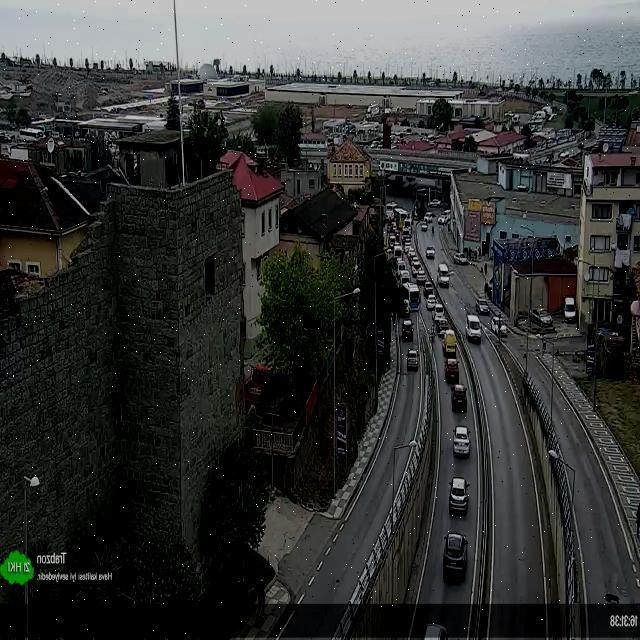Bus: (402, 282, 420, 310)
Car: (442, 530, 469, 581), (448, 476, 470, 514), (452, 426, 471, 456), (451, 384, 468, 412), (422, 622, 448, 640), (531, 308, 553, 327), (490, 315, 508, 337), (444, 358, 460, 382), (406, 348, 420, 371), (474, 298, 490, 316), (401, 320, 414, 342), (453, 252, 468, 265), (426, 294, 437, 309), (402, 298, 411, 316), (416, 270, 426, 286), (399, 269, 410, 283), (434, 302, 444, 316), (424, 280, 434, 294), (411, 257, 421, 271), (396, 258, 405, 273), (403, 239, 412, 253), (426, 246, 436, 258), (402, 231, 411, 244), (411, 266, 420, 279), (408, 248, 416, 262), (438, 214, 448, 225), (393, 243, 402, 255), (424, 213, 434, 223), (389, 233, 397, 244), (420, 222, 428, 231)
Van: (465, 314, 482, 343), (443, 330, 457, 358), (564, 296, 576, 322), (438, 263, 450, 287)
